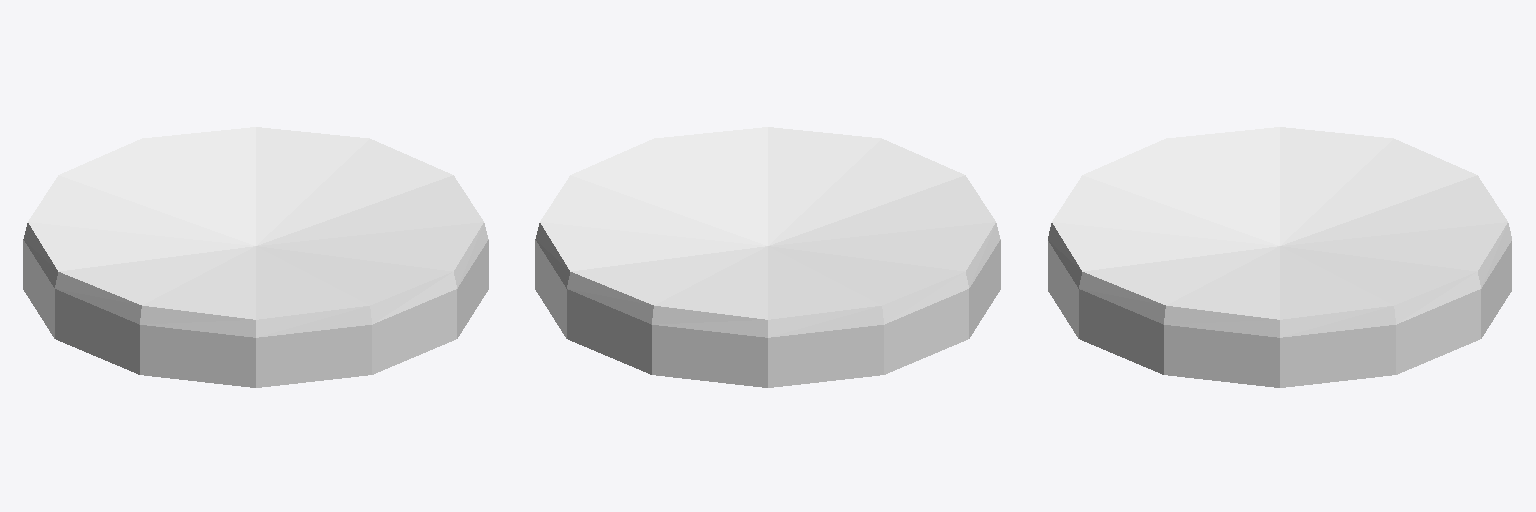
The model's file is MUFF_T_HE.obj.
3 renders of one model, left to right at view 1: azimuth 30°, elevation 25°; view 2: azimuth 150°, elevation 25°; view 3: azimuth 270°, elevation 25°, orthographic.
Parts seen in each view (by area): view 1: node; view 2: node; view 3: node.
Part boxes in pixels (left/top/right/bottom): node: left=23, top=127, right=488, bottom=387; node: left=535, top=127, right=1000, bottom=387; node: left=1048, top=127, right=1511, bottom=387.
Size of the model in its own units: 2.4 by 0.3867 by 2.4.